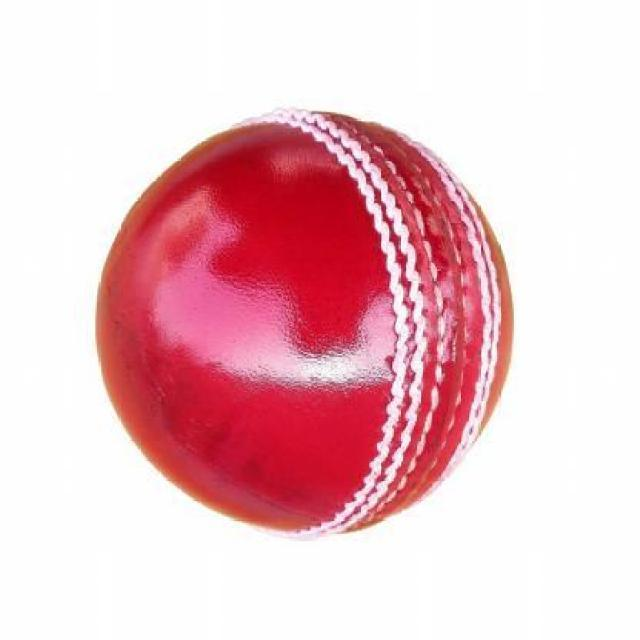-: (115, 129, 512, 522)
